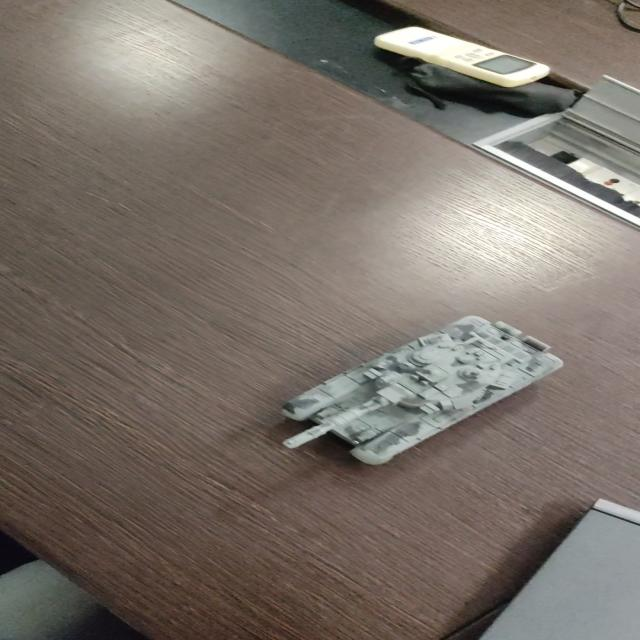tank: (279, 312, 566, 466)
